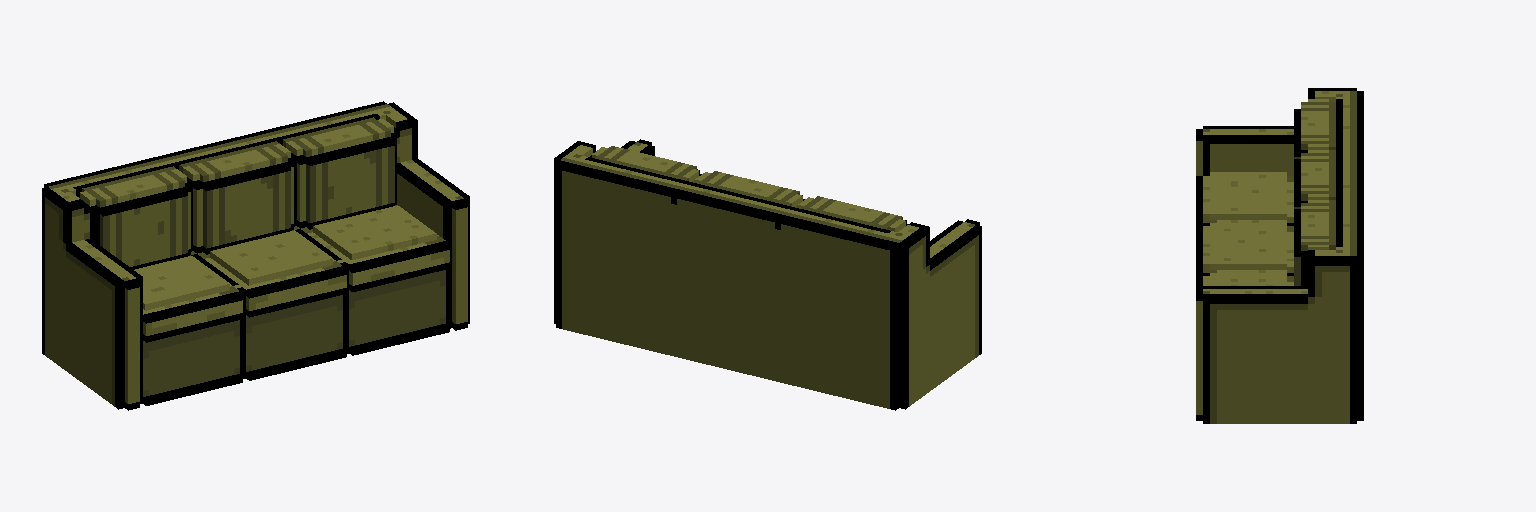
3 renders of one model, left to right at view 1: azimuth 30°, elevation 25°; view 2: azimuth 150°, elevation 25°; view 3: azimuth 270°, elevation 25°, orthographic.
Visible parts, largest first — view 1: GreenSofa; view 2: GreenSofa; view 3: GreenSofa.
Part boxes in pixels (bbox=[...]): GreenSofa: bbox=[42, 101, 469, 410]; GreenSofa: bbox=[554, 139, 981, 410]; GreenSofa: bbox=[1196, 88, 1363, 423].
Size of the model in its own units: 5.8 by 2.6 by 2.4.
1 materials, 1 textured.